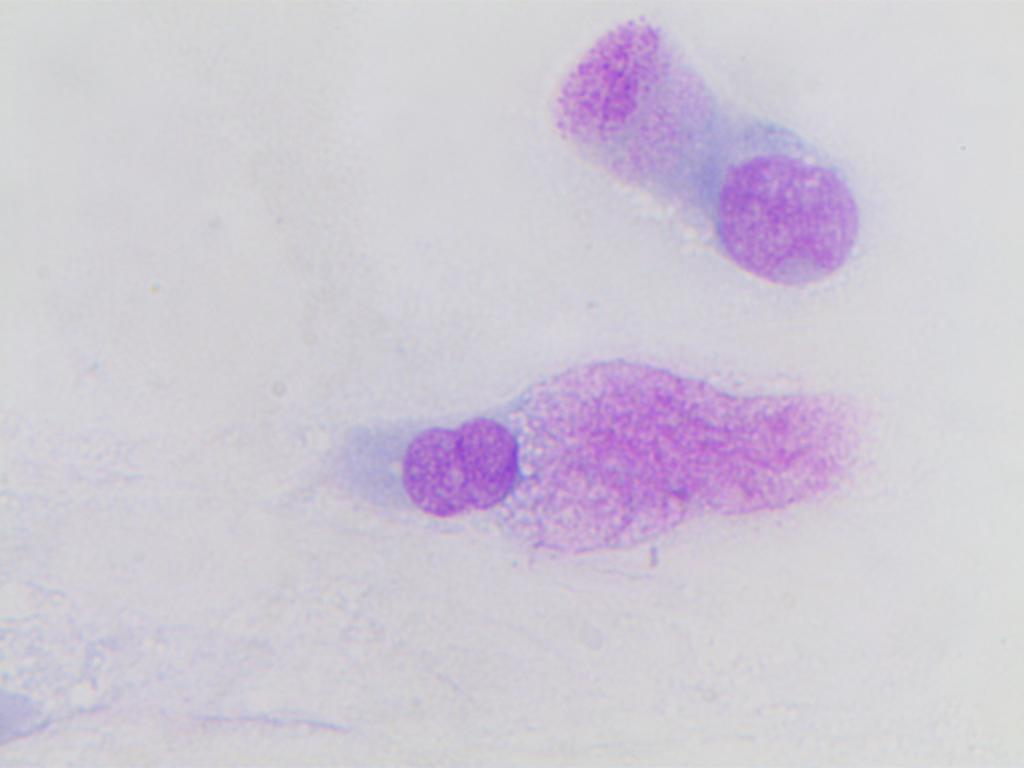ciliated: (543, 17, 881, 296)
goblet_cell: (387, 368, 738, 547)
